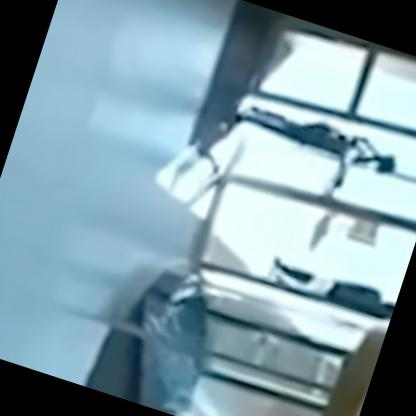Human Body: (227, 86, 407, 184), (258, 245, 400, 328)
